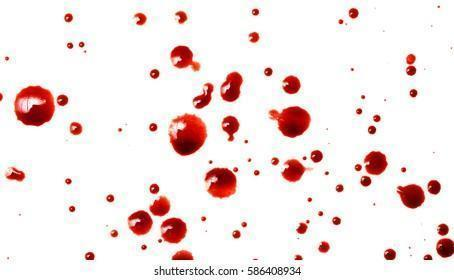Fire: (169, 114, 207, 156), (14, 86, 53, 126), (270, 106, 310, 138), (414, 249, 454, 280), (206, 167, 239, 198), (246, 156, 280, 177), (282, 160, 313, 182), (172, 46, 200, 70), (398, 185, 426, 209), (221, 72, 243, 102), (161, 219, 187, 244), (128, 211, 153, 236), (365, 151, 389, 176), (193, 83, 214, 108), (222, 116, 240, 142), (150, 196, 171, 216), (309, 199, 330, 216), (283, 75, 301, 94), (437, 239, 454, 258), (4, 168, 25, 182), (66, 40, 87, 52), (172, 251, 193, 260), (429, 181, 442, 194), (134, 12, 147, 24), (319, 242, 331, 254), (311, 151, 323, 163), (70, 122, 81, 134), (175, 12, 188, 22), (57, 95, 68, 106), (297, 223, 308, 234), (386, 249, 397, 260), (439, 225, 450, 236), (349, 7, 360, 18), (201, 216, 208, 232), (149, 184, 160, 194), (361, 176, 372, 186), (407, 54, 417, 64), (407, 66, 417, 76), (141, 245, 150, 256), (249, 32, 258, 42), (150, 69, 160, 78), (85, 252, 94, 261), (232, 231, 241, 240), (333, 217, 342, 226), (64, 13, 73, 22), (149, 123, 158, 132), (411, 89, 419, 98), (265, 67, 273, 76), (252, 8, 260, 16), (106, 195, 114, 202), (110, 231, 118, 238), (356, 164, 363, 172), (369, 126, 376, 134), (337, 185, 344, 192), (375, 115, 382, 122), (294, 255, 303, 260), (117, 127, 126, 132), (69, 206, 75, 212), (242, 222, 248, 228), (357, 108, 363, 114), (65, 179, 72, 184), (362, 95, 366, 100), (339, 19, 344, 23), (4, 56, 9, 60), (349, 68, 356, 70)
